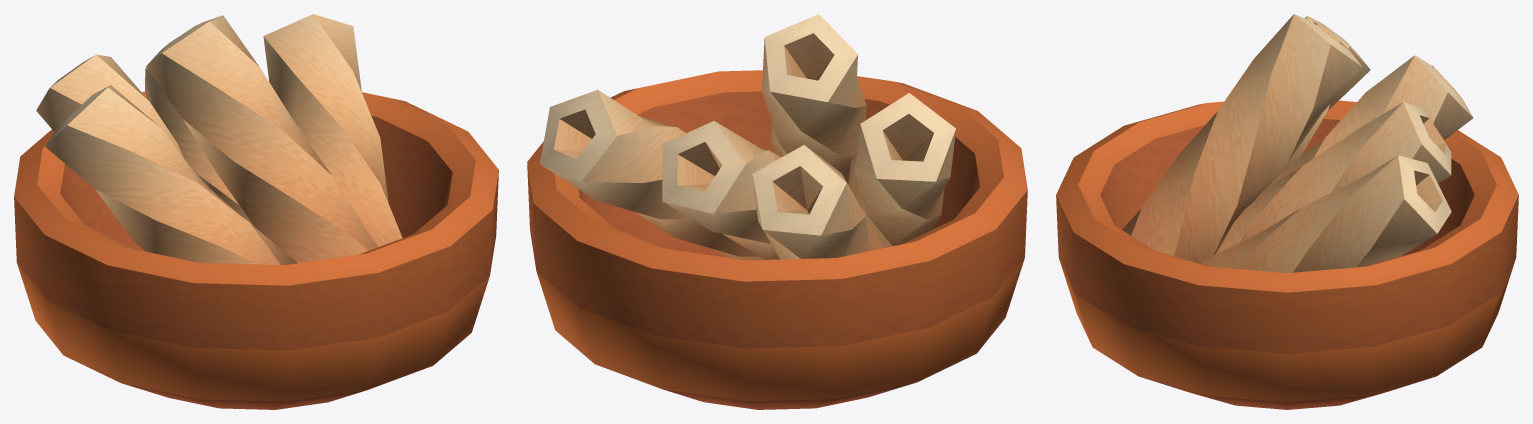
The model's file is icecream_bowl_cookiesticks.gltf.
3 renders of one model, left to right at view 1: azimuth 30°, elevation 25°; view 2: azimuth 150°, elevation 25°; view 3: azimuth 270°, elevation 25°, orthographic. The views are drawn at different scales.
Visible parts, largest first — view 1: icecream_bowl_cookiesticks; view 2: icecream_bowl_cookiesticks; view 3: icecream_bowl_cookiesticks.
Boxes of the visible parts, x1,y1,x2,y2 form: icecream_bowl_cookiesticks: (14,14,498,409); icecream_bowl_cookiesticks: (527,14,1027,409); icecream_bowl_cookiesticks: (1056,14,1518,409).
Bounding box in the file's own units: 0.75 × 0.5692 × 0.75.
Materials: 1 (1 with a texture image).
